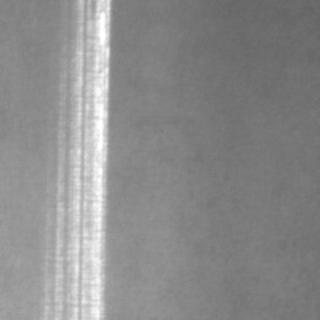scratches: (53, 1, 105, 316)
